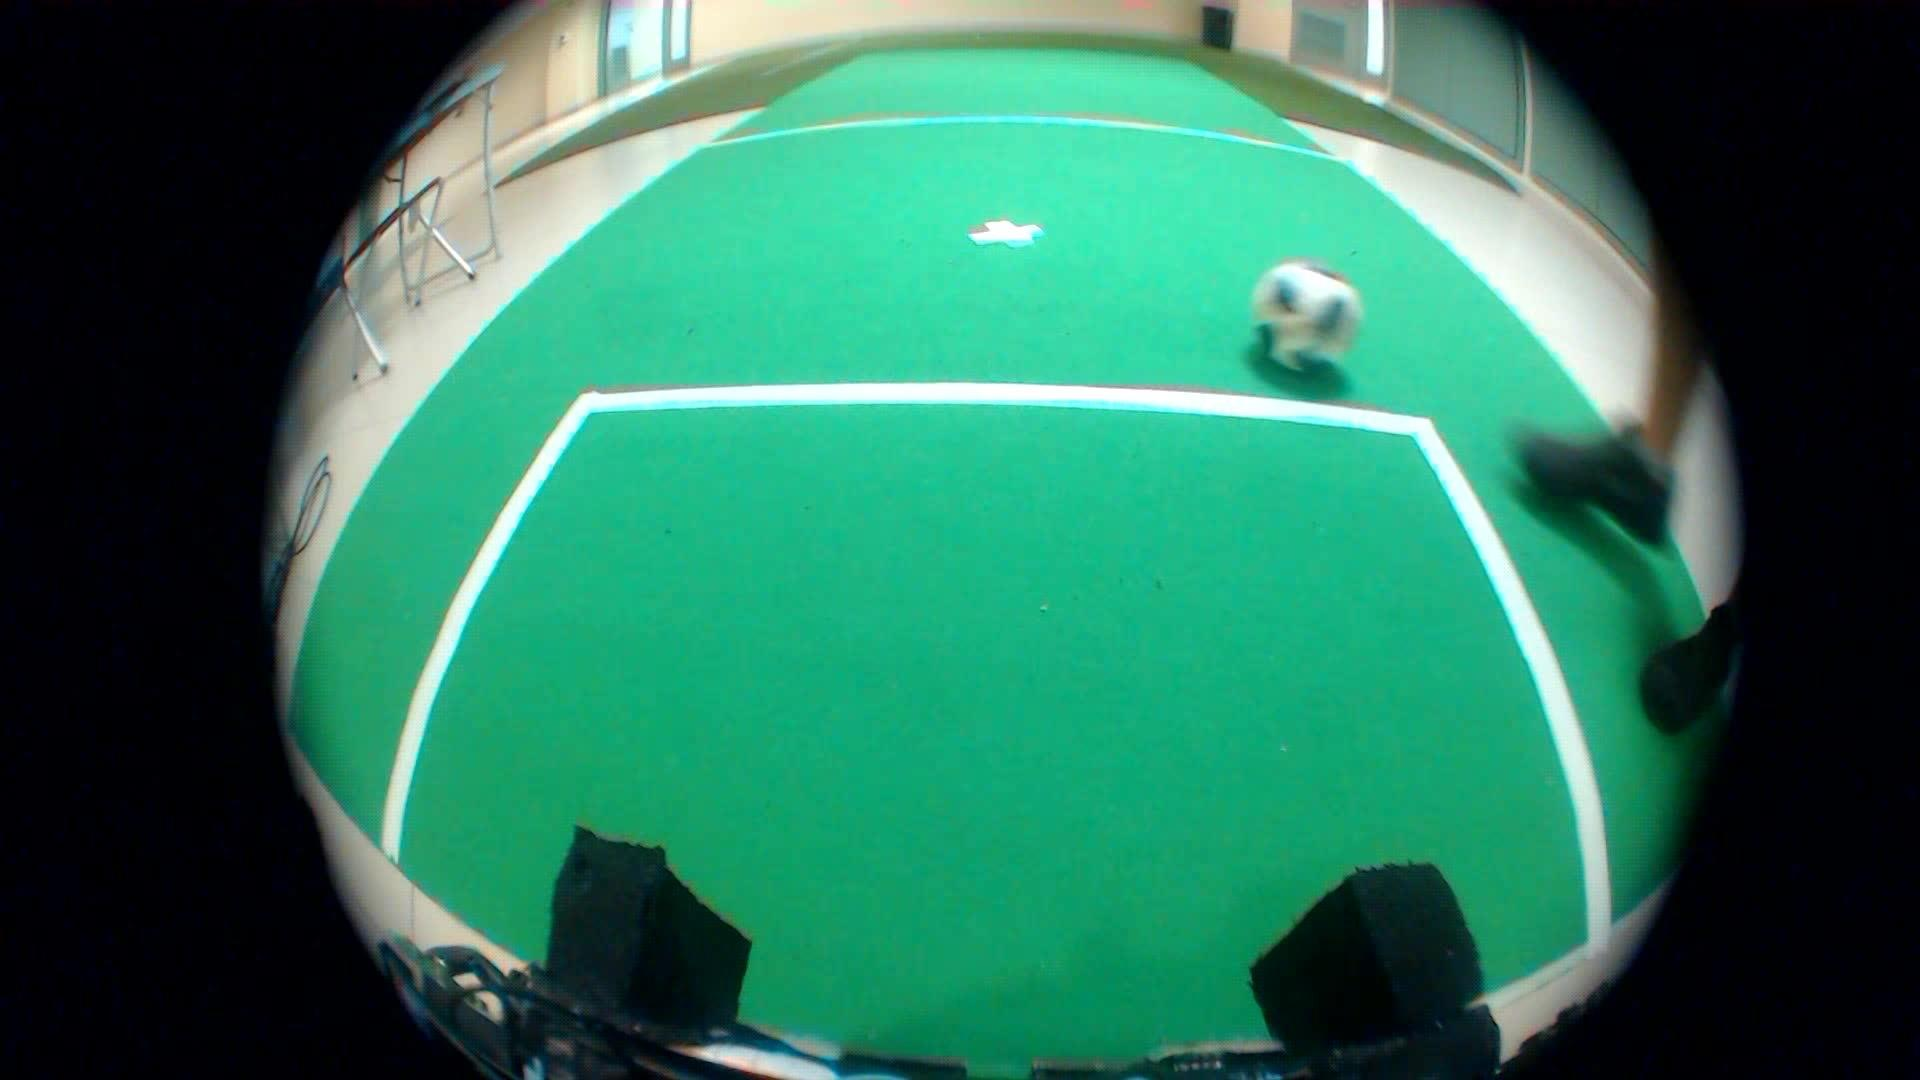ball: (1234, 247, 1375, 390)
